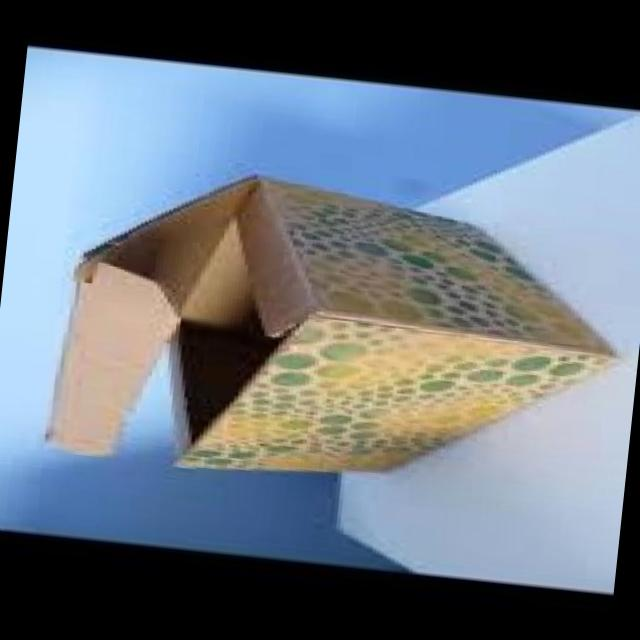cardboard paper: (45, 176, 610, 468)
